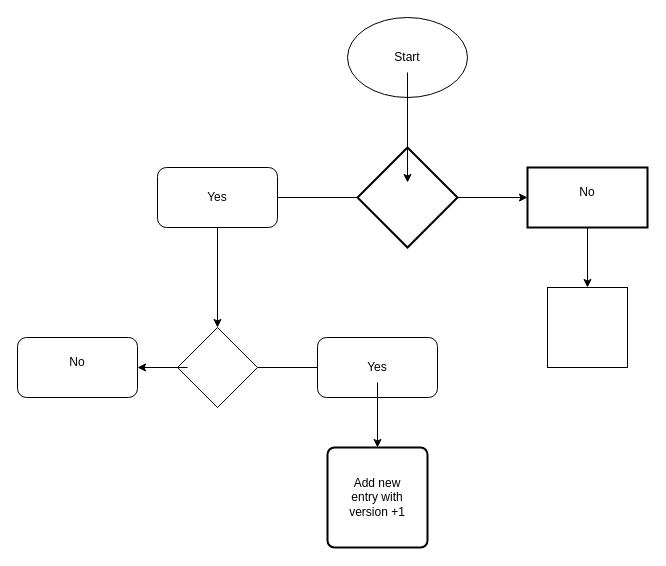
This 666x566 diagram has some shape labels left out. The centre of each missing label's shape, as x and y in pixels:
"Add new entry with version as 1" goes at point 587,327.
"record data changed" goes at point 217,367.
"surveyNo found in db" goes at point 407,197.
